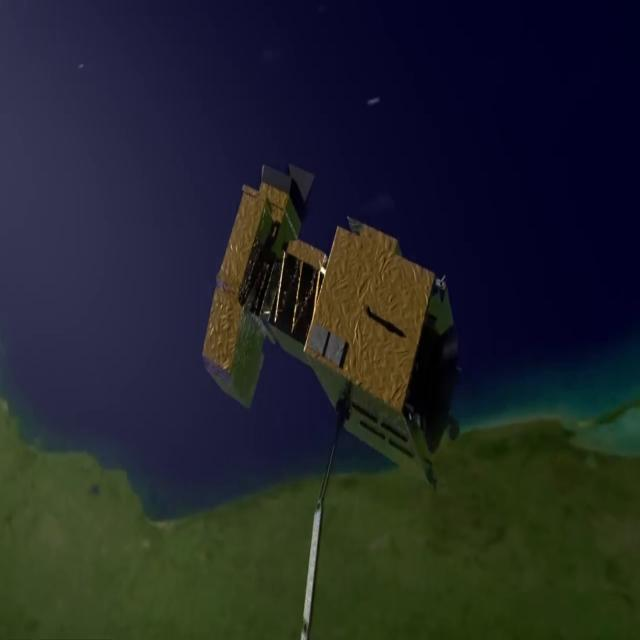sat: (178, 162, 506, 510)
